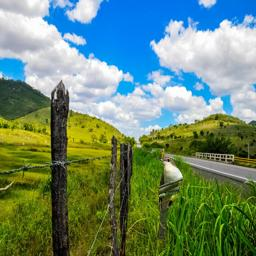Cuckoo: (156, 157, 184, 239)
